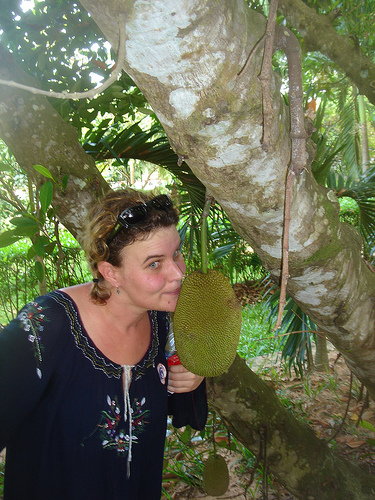jackfruit: (168, 265, 241, 377), (197, 446, 232, 498)
